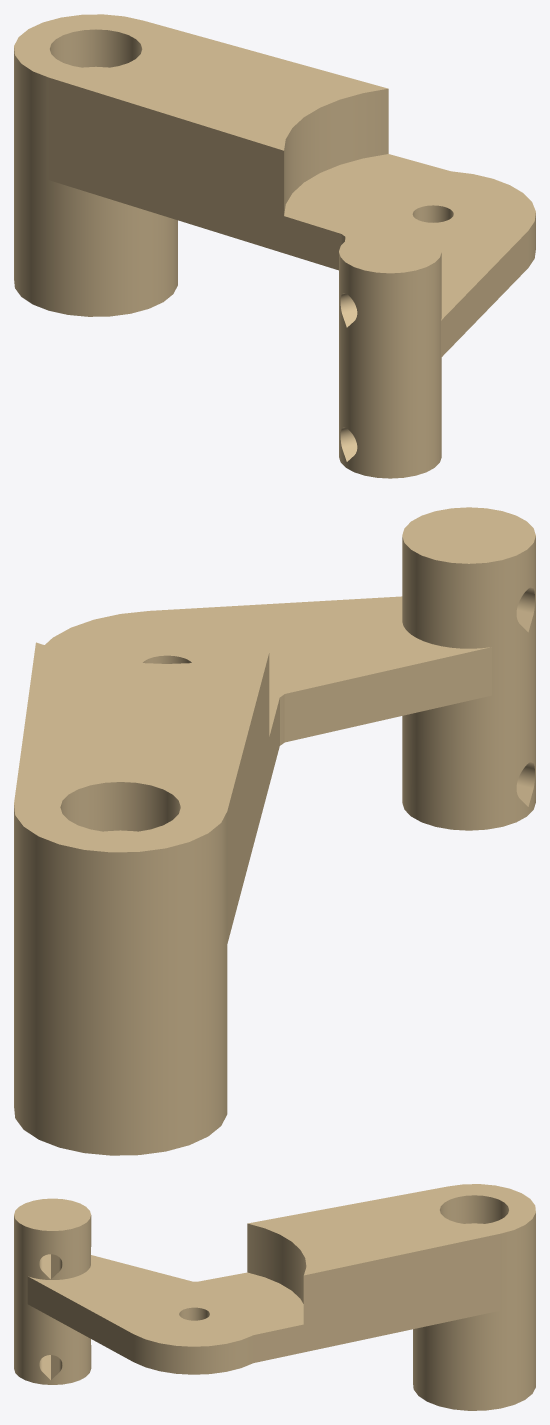
The model's file is arbre_suspension_droit.obj.
3 renders of one model, top to bottom at view 1: azimuth 30°, elevation 25°; view 2: azimuth 150°, elevation 25°; view 3: azimuth 270°, elevation 25°, orthographic. The views are drawn at different scales.
Parts seen in each view (by area): view 1: arbre_susp; view 2: arbre_susp; view 3: arbre_susp.
Boxes of the visible parts, x1,y1,x2,y2 form: arbre_susp: (14,14,535,478); arbre_susp: (14,507,535,1155); arbre_susp: (14,1184,535,1410).
Size of the model in its own units: 1.74 by 1.25 by 3.38.
